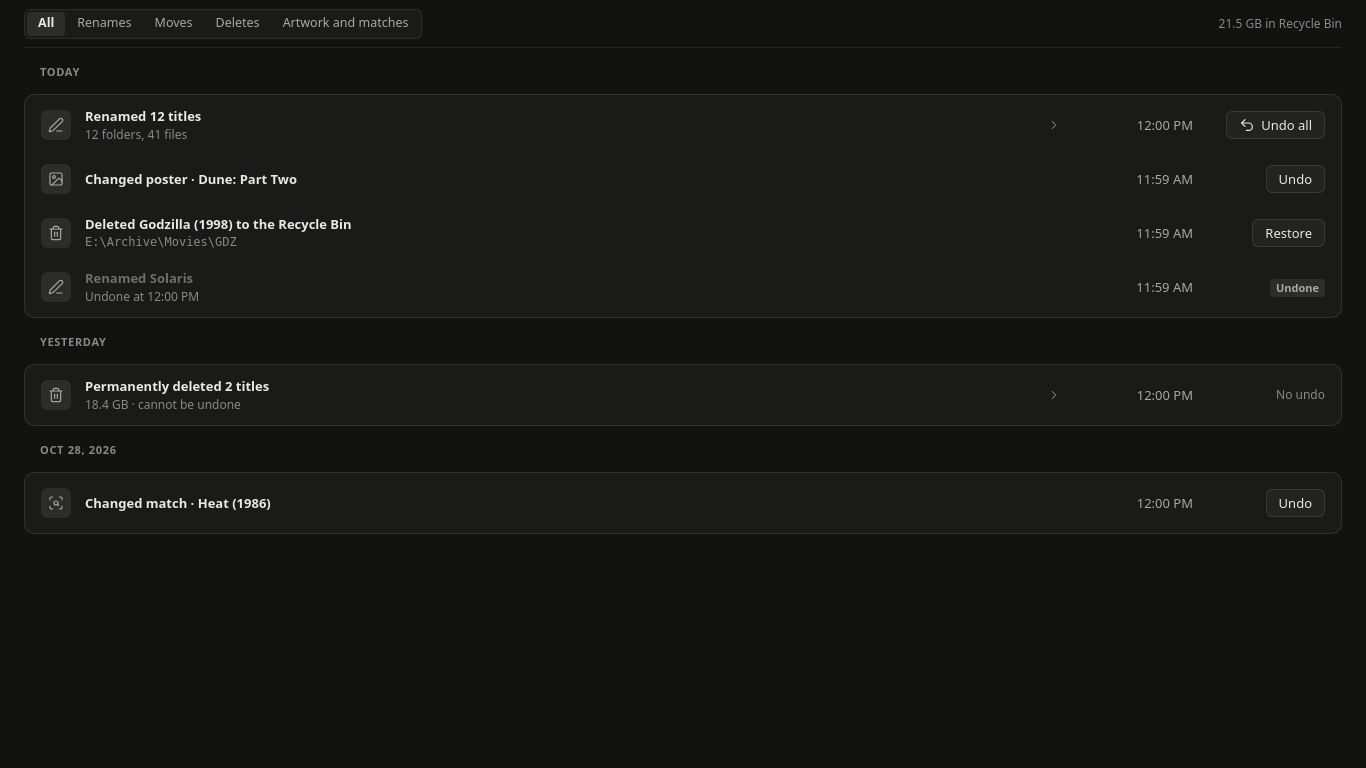
Test case: the History page › expands a batch to its first titles and lists the rest in place
This screenshot has width=1366, height=768.
Expected: the text "Renamed 12 titles" is shown, [85,107,201,125]
Expected: the text "D:\\Movies\\old.1" is not shown
Click the button with aria-label "Show the titles of Renamed 12 titles".
click(143, 116)  # box [85,107,1061,143]
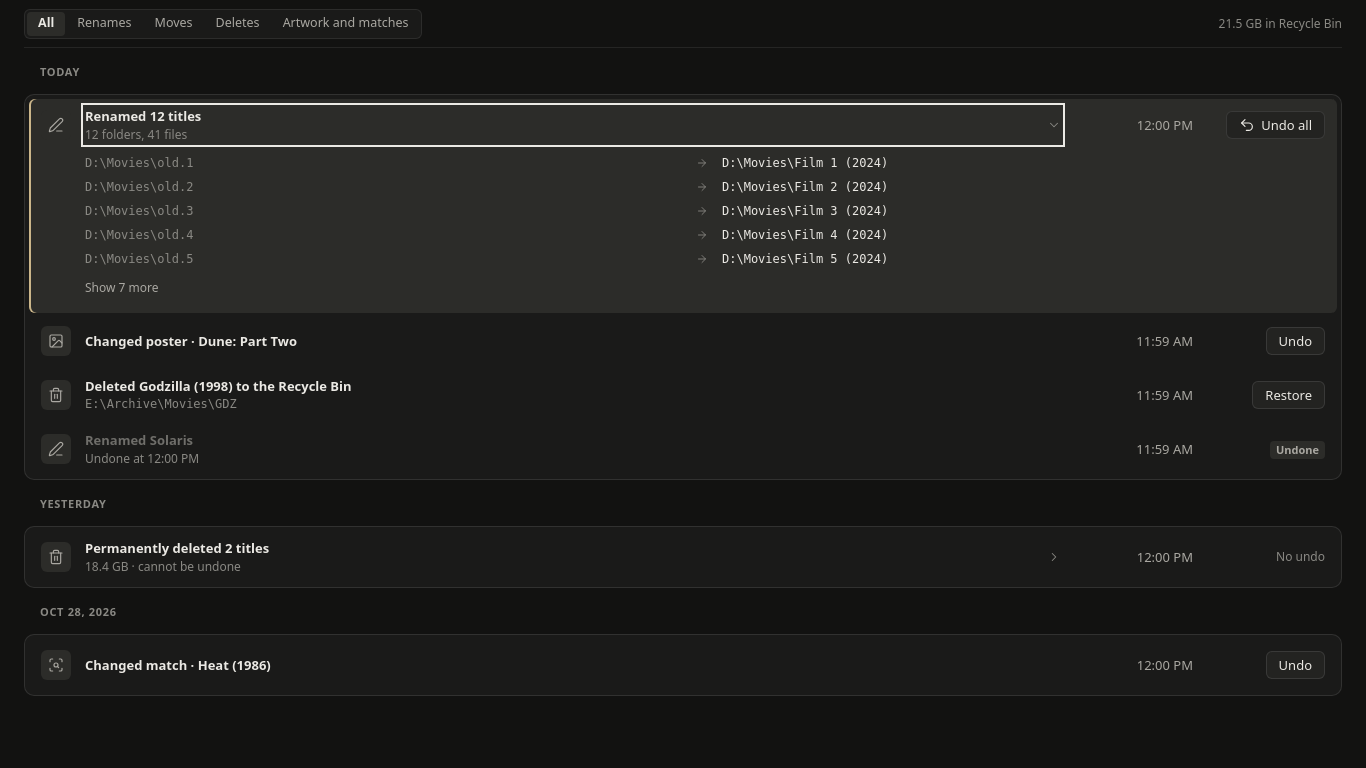
Expected: the text "D:\\Movies\\old.6" is not shown
Now the text "D:\\Movies\\old.1" is shown, box [85,156,193,170]
Now the text "D:\\Movies\\Film 5 (2024)" is shown, box [722,252,888,266]
Click the button "Show 7 more".
click(122, 288)  # box [85,275,158,301]
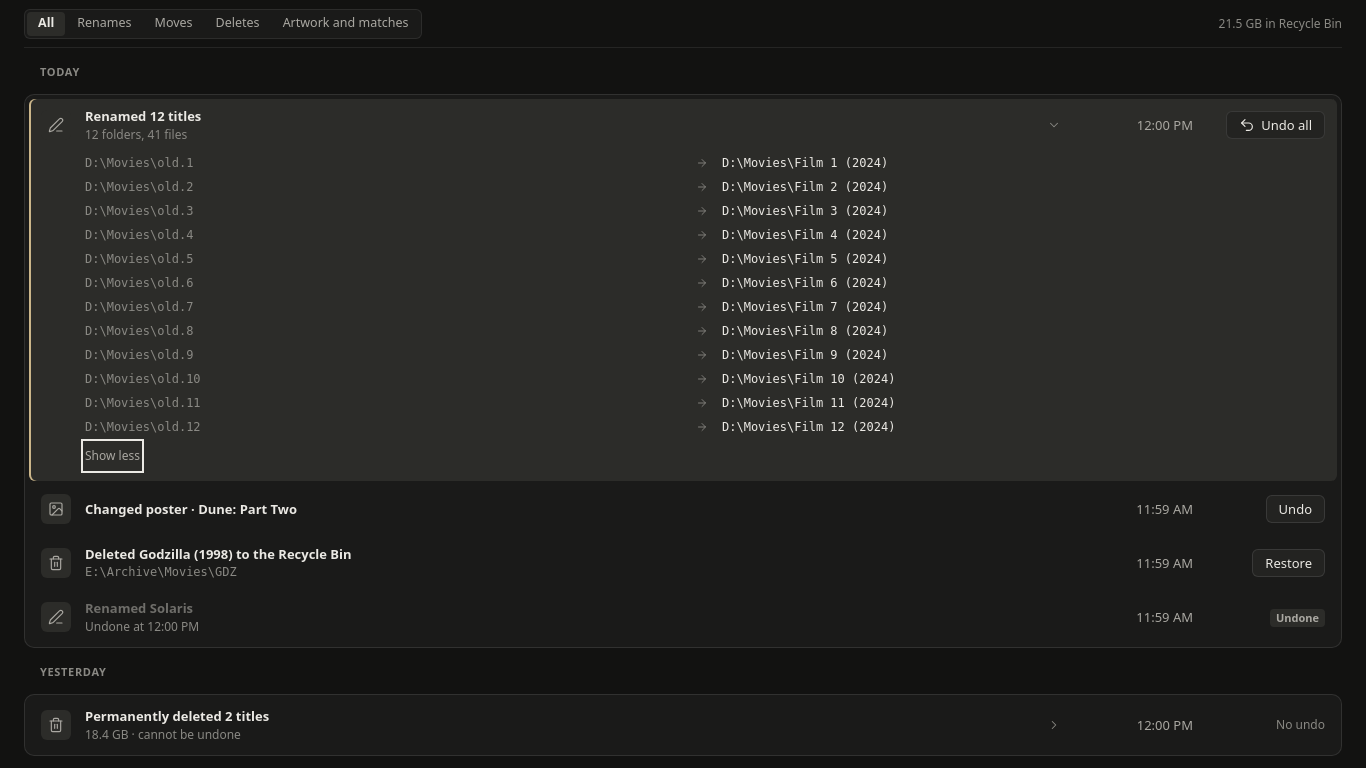
Now the text "D:\\Movies\\old.12" is shown, box [85,420,201,434]
